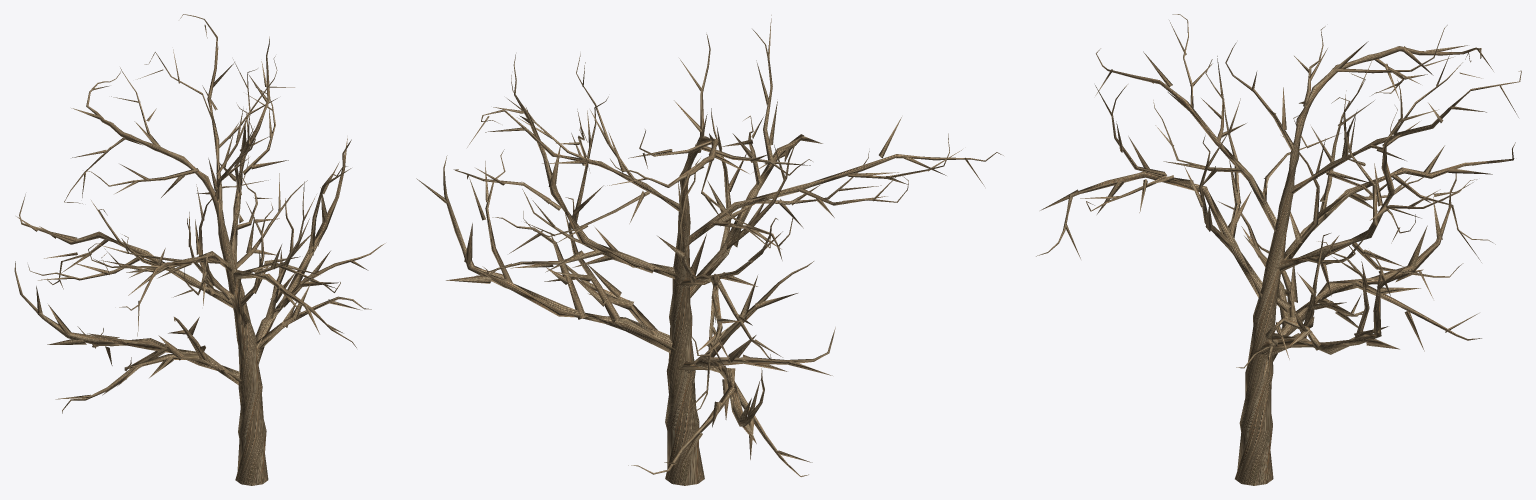
Rendered from deadoak-lod1.glb.
The picture shows the model from 3 angles, left to right: view 1: azimuth 30°, elevation 25°; view 2: azimuth 150°, elevation 25°; view 3: azimuth 270°, elevation 25°; orthographic projection. The views are drawn at different scales.
Parts seen in each view (by area): view 1: branches; view 2: branches; view 3: branches.
Part boxes in pixels (left/top/right/bottom): branches: left=14, top=14, right=385, bottom=485; branches: left=416, top=15, right=1003, bottom=485; branches: left=1036, top=14, right=1521, bottom=485.
Bounding box in the file's own units: 74.46 × 74.82 × 74.14.
Materials: 1 (1 with a texture image).
